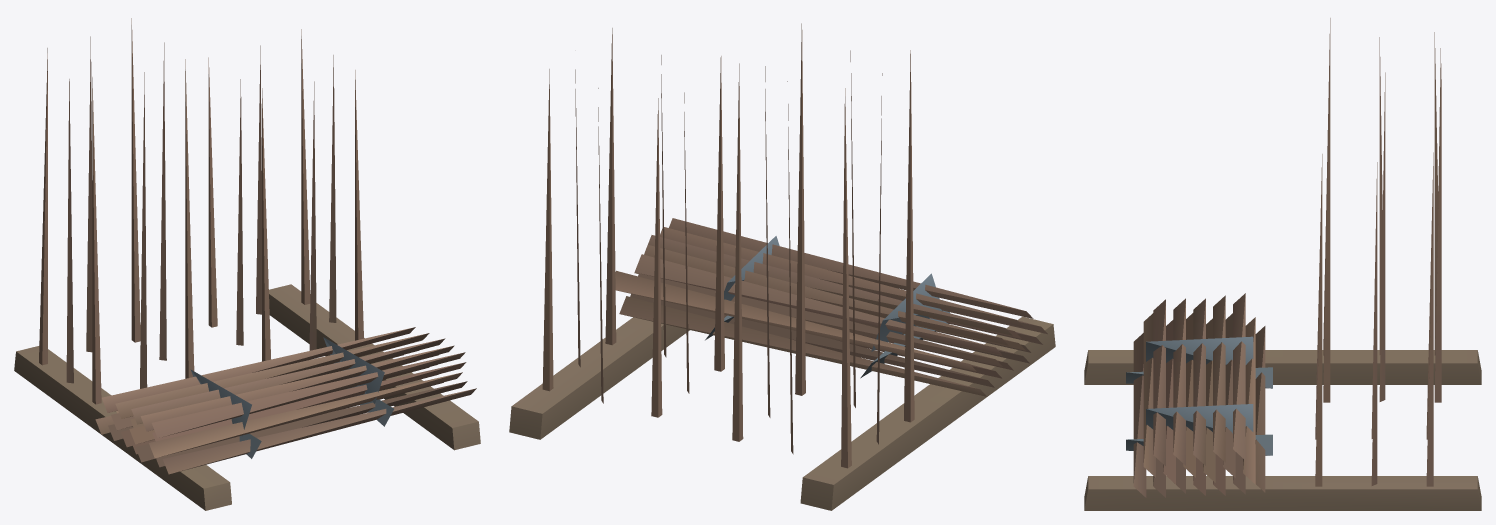
File: rebar.lod1.glb
3 views of the same model, side by side, from view 1: azimuth 30°, elevation 25°; view 2: azimuth 150°, elevation 25°; view 3: azimuth 270°, elevation 25° (orthographic). The views are drawn at different scales.
Size of the model in its own units: 1.96 by 2 by 2.
